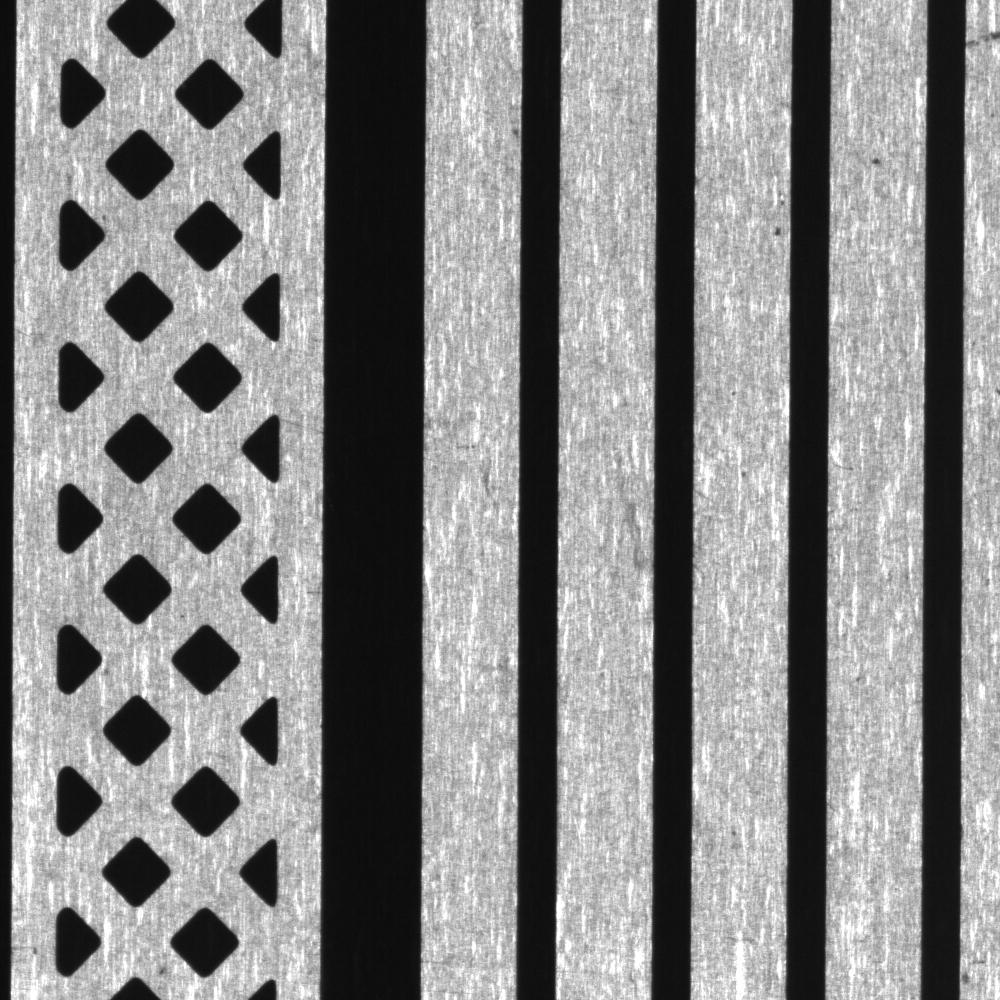Etching: (765, 182, 791, 241), (502, 105, 523, 145), (725, 381, 743, 403)
Pinhole: (863, 144, 895, 179), (722, 815, 749, 849), (730, 454, 759, 485)
Scar: (283, 407, 325, 446), (966, 24, 1000, 50)
